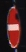No entry: (5, 5, 21, 46)
